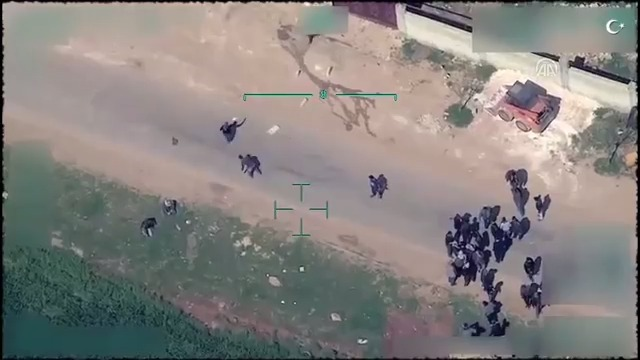arac: (480, 73, 562, 137)
insan: (234, 148, 264, 181), (365, 170, 381, 197), (522, 251, 537, 279), (216, 119, 233, 143), (444, 223, 455, 259), (478, 300, 497, 319), (532, 190, 544, 220)
